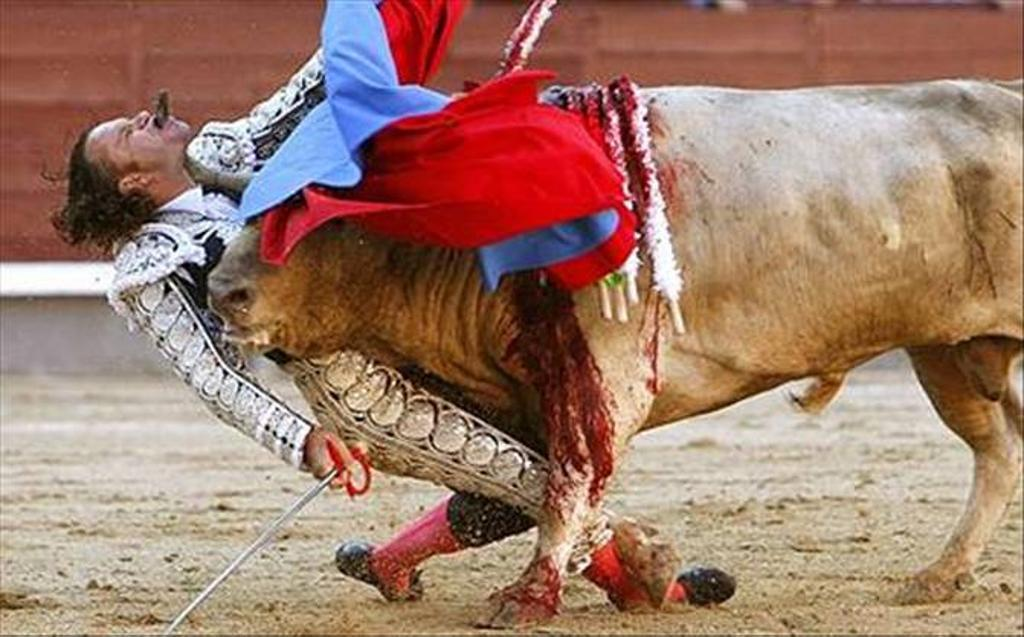face: (93, 107, 187, 167)
